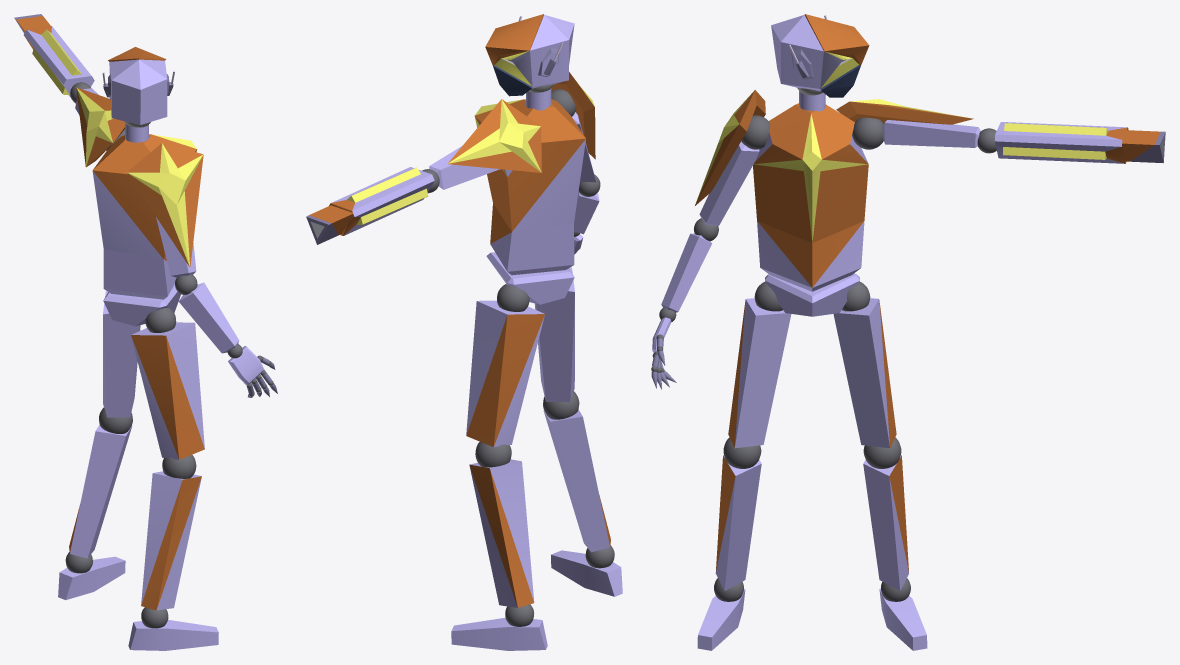
File: ranger.fbx
The picture shows the model from 3 angles, left to right: view 1: azimuth 30°, elevation 25°; view 2: azimuth 150°, elevation 25°; view 3: azimuth 270°, elevation 25°; orthographic projection. The views are drawn at different scales.
Parts seen in each view (by area): view 1: polySurface59; view 2: polySurface59; view 3: polySurface59.
Boxes of the visible parts, box(x1,y1,x2,y2) form: polySurface59: box(14, 14, 277, 650); polySurface59: box(306, 14, 622, 650); polySurface59: box(651, 14, 1165, 650).
Bounding box in the file's own units: 3.71 × 17.07 × 12.88.
